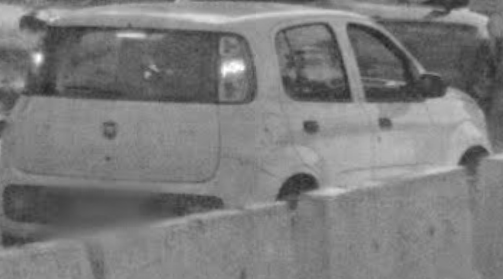car: (15, 7, 491, 186)
